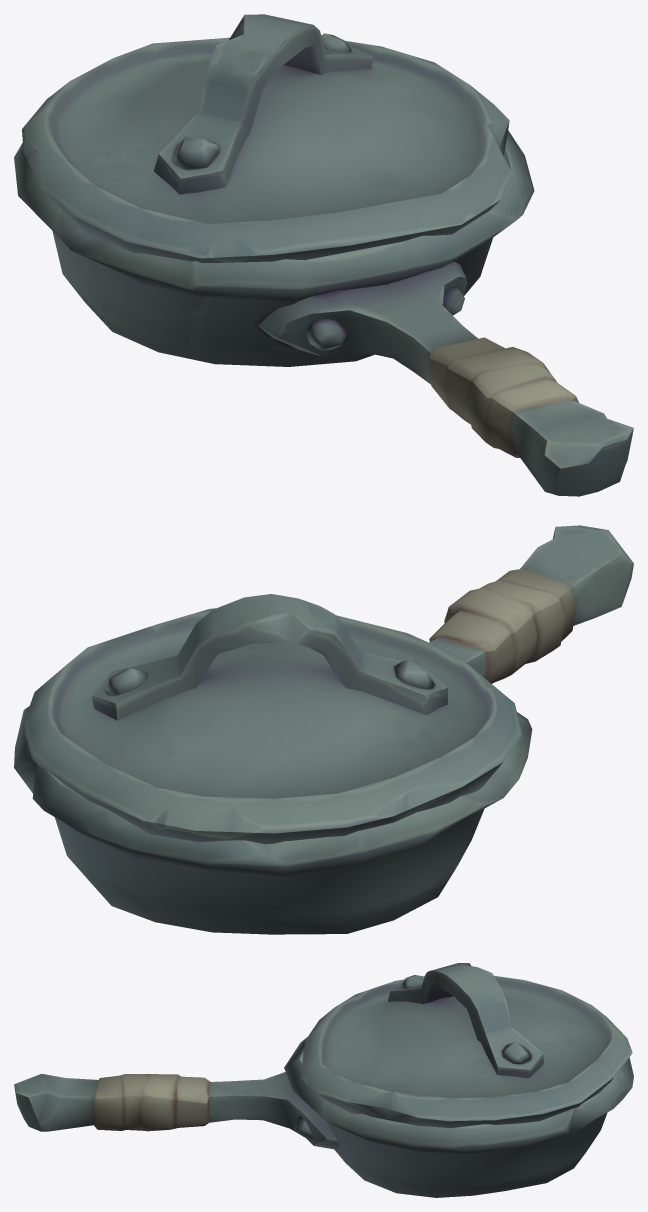
File: SM_FW01_CampProp_Pan_B_01.fbx
3 renders of one model, top to bottom at view 1: azimuth 30°, elevation 25°; view 2: azimuth 150°, elevation 25°; view 3: azimuth 270°, elevation 25°, orthographic. The views are drawn at different scales.
Visible parts, largest first — view 1: SM_FW01_CampProp_Pan_B_01_LOD0; view 2: SM_FW01_CampProp_Pan_B_01_LOD0; view 3: SM_FW01_CampProp_Pan_B_01_LOD0.
Boxes of the visible parts, x1,y1,x2,y2 form: SM_FW01_CampProp_Pan_B_01_LOD0: (14,14,633,496); SM_FW01_CampProp_Pan_B_01_LOD0: (14,525,633,934); SM_FW01_CampProp_Pan_B_01_LOD0: (14,963,633,1197).
Size of what is drawn, in the model's own units: 0.6373 by 0.3714 by 1.15.
